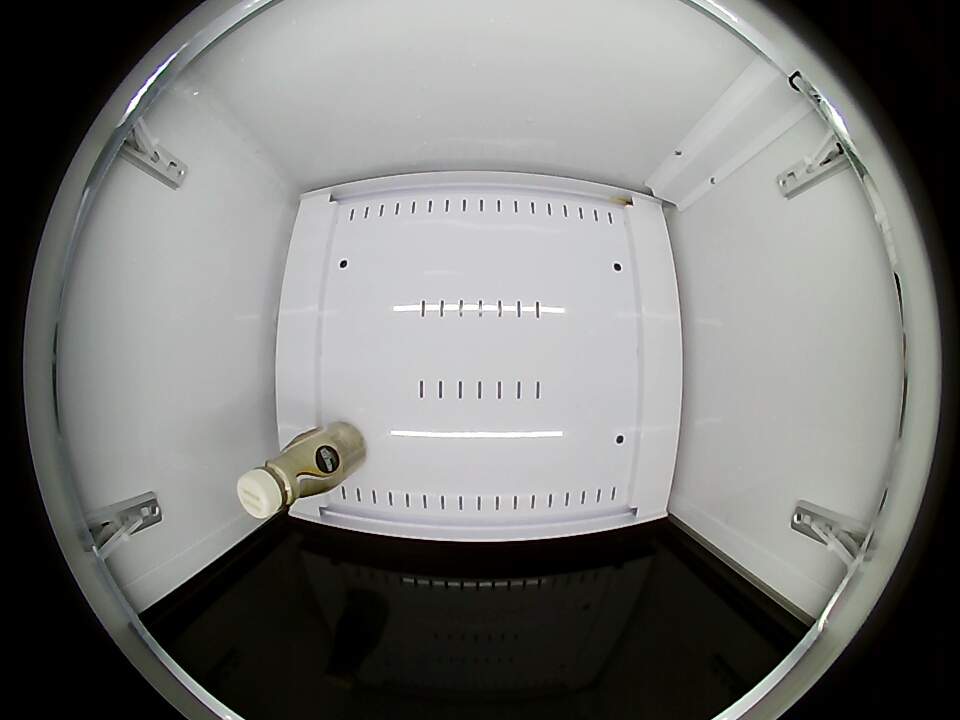kafei: (237, 434, 333, 519)
